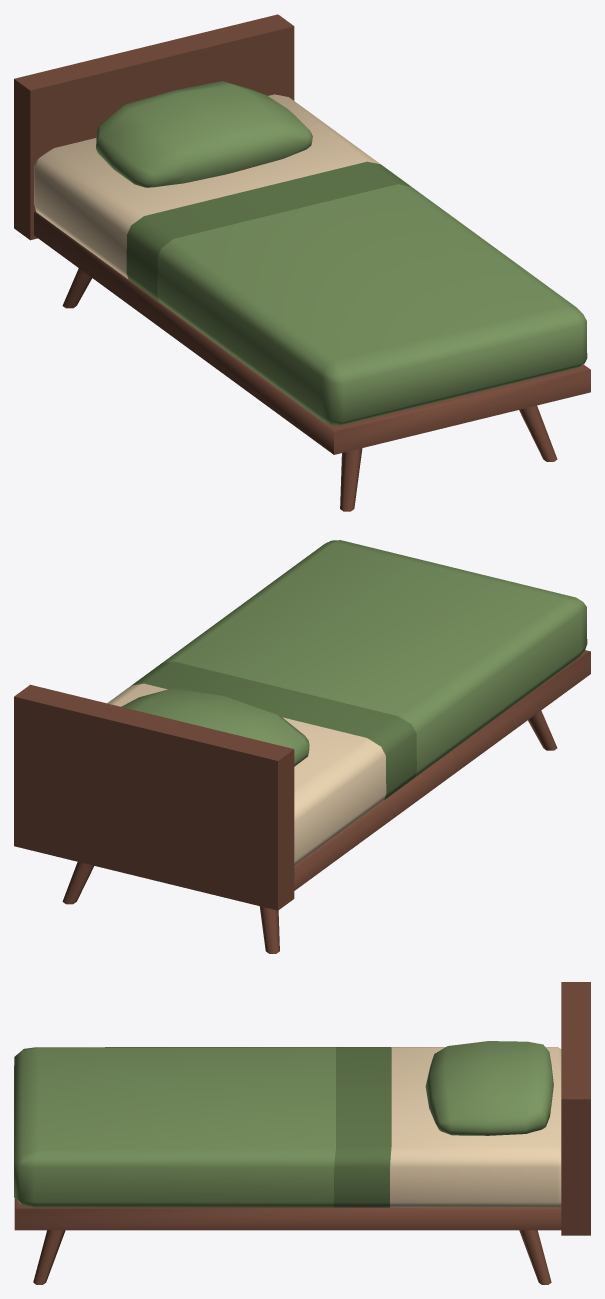
Rendered from Bed_01_Single.fbx.
3 renders of one model, top to bottom at view 1: azimuth 30°, elevation 25°; view 2: azimuth 150°, elevation 25°; view 3: azimuth 270°, elevation 25°, orthographic. The views are drawn at different scales.
Visible parts, largest first — view 1: Bed_01_Single; view 2: Bed_01_Single; view 3: Bed_01_Single.
Boxes of the visible parts, bbox=[...] form: Bed_01_Single: bbox=[14, 14, 590, 511]; Bed_01_Single: bbox=[14, 540, 590, 953]; Bed_01_Single: bbox=[14, 982, 590, 1284].
Bounding box in the file's own units: 0.9244 × 0.7225 × 1.92.
